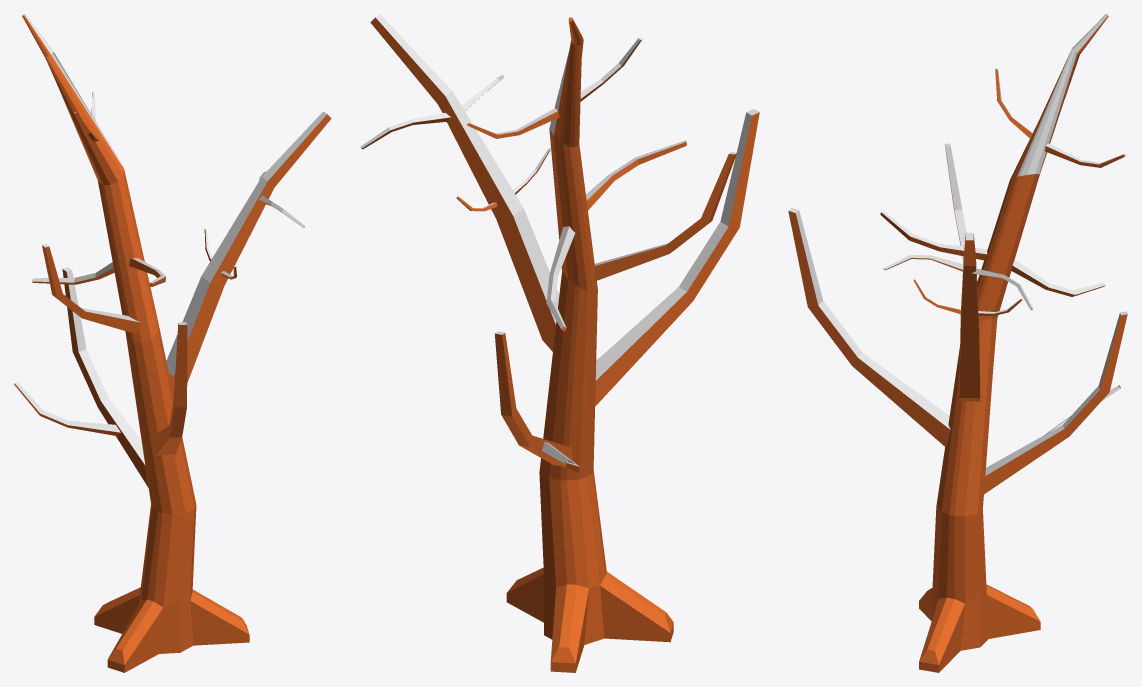
The model's file is Tree_4.fbx.
3 renders of one model, left to right at view 1: azimuth 30°, elevation 25°; view 2: azimuth 150°, elevation 25°; view 3: azimuth 270°, elevation 25°, orthographic. The views are drawn at different scales.
Visible parts, largest first — view 1: _11_tree; view 2: _11_tree; view 3: _11_tree.
Boxes of the visible parts, x1=… form: _11_tree: x1=14, y1=14, x2=331, y2=672; _11_tree: x1=360, y1=14, x2=759, y2=672; _11_tree: x1=788, y1=14, x2=1127, y2=672.
Bounding box in the file's own units: 1.09 × 2.06 × 1.07.
